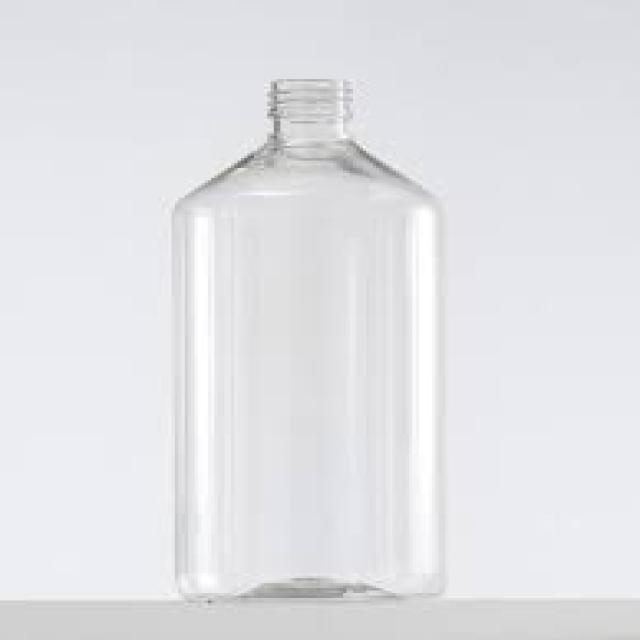bottle: (175, 80, 442, 600)
